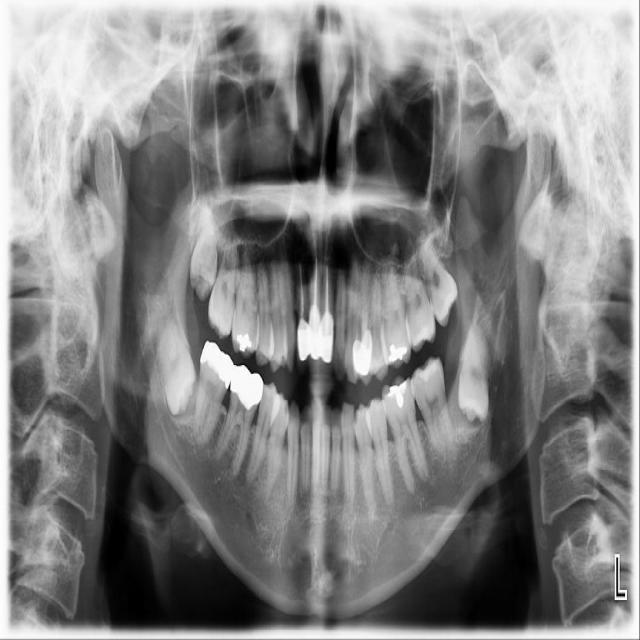3M ESPE Implant: (188, 209, 218, 301)
52: (192, 339, 241, 396), (377, 372, 421, 433), (378, 311, 414, 369), (226, 363, 265, 416), (230, 302, 262, 358), (352, 329, 373, 384), (318, 312, 335, 378), (294, 316, 311, 373), (307, 308, 320, 375)
73: (610, 564, 614, 584)
BioHorizons Implant: (401, 235, 437, 352)
BioLife Implant: (415, 225, 464, 328)
Biomet 3i Implant: (456, 325, 494, 423)
Blue Sky Bio Implant: (407, 354, 455, 462)
Caries: (206, 237, 237, 340)
Keystone Dental Implant: (153, 313, 201, 417)
